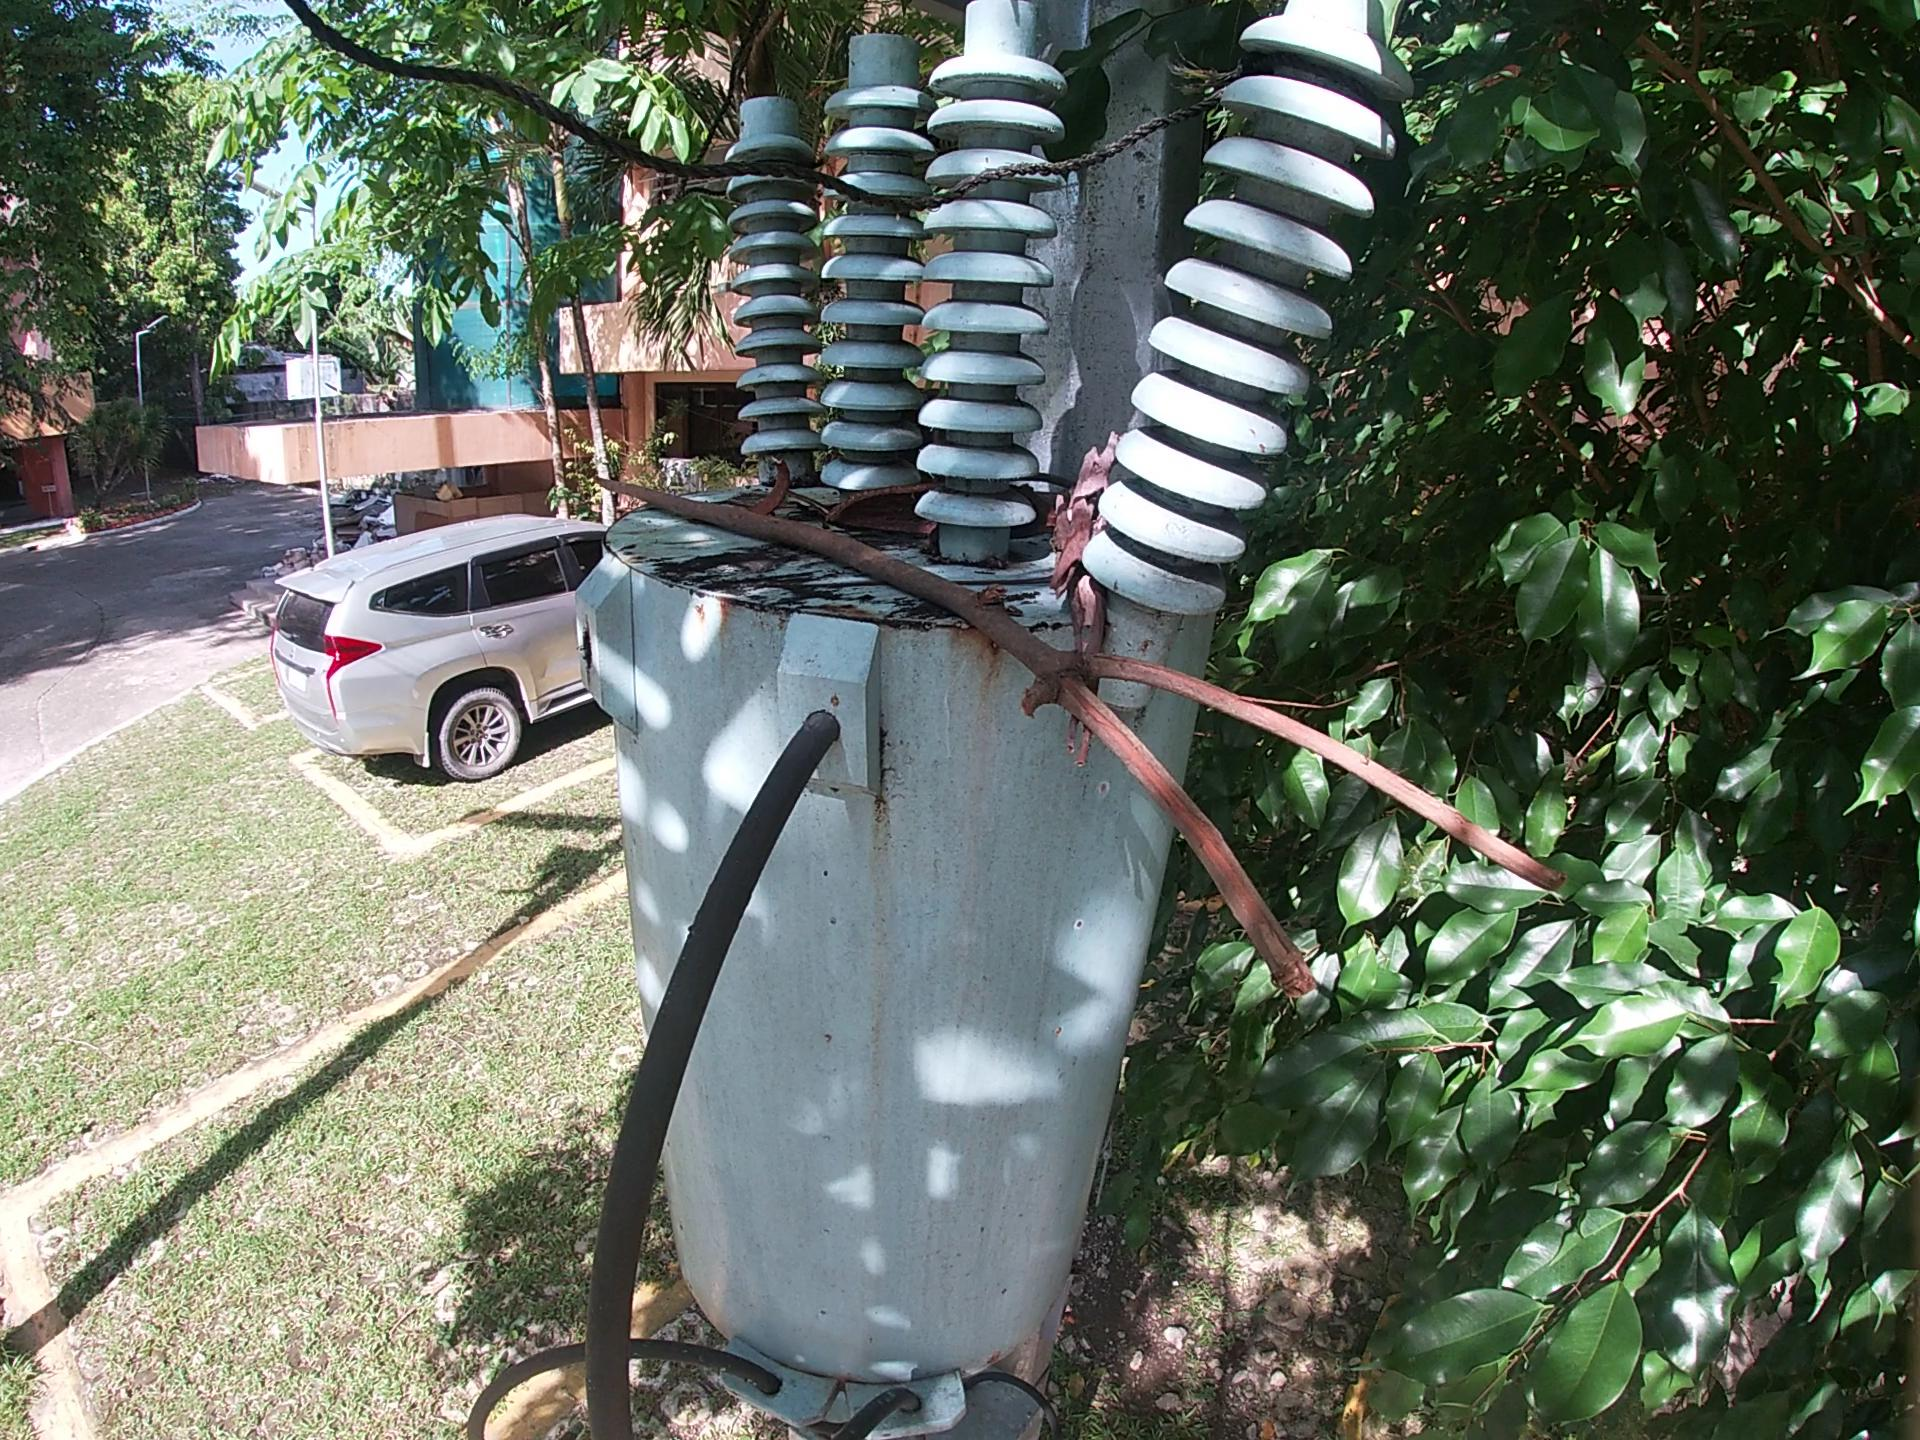mahogany fruit: (821, 489, 946, 543), (727, 476, 792, 510)
tree branch: (587, 476, 1613, 1016), (1042, 433, 1116, 782), (1002, 476, 1089, 489)
